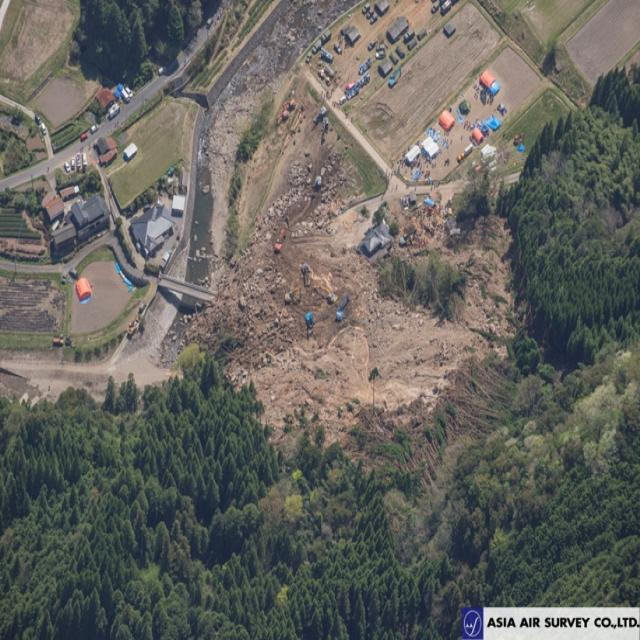Debris-flow: (185, 193, 514, 475)
